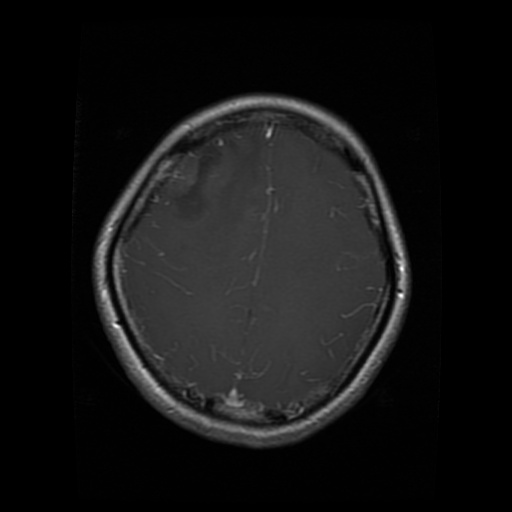glioma: (157, 130, 253, 229)
